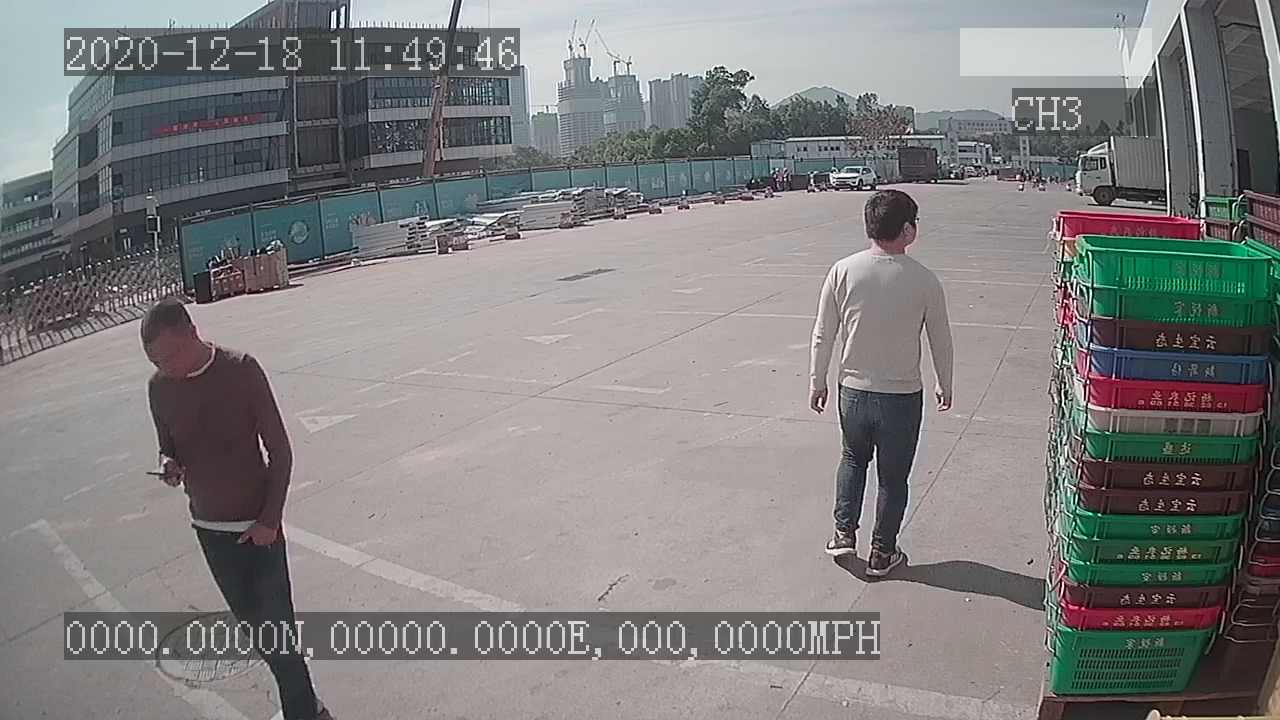person: (802, 185, 959, 581)
